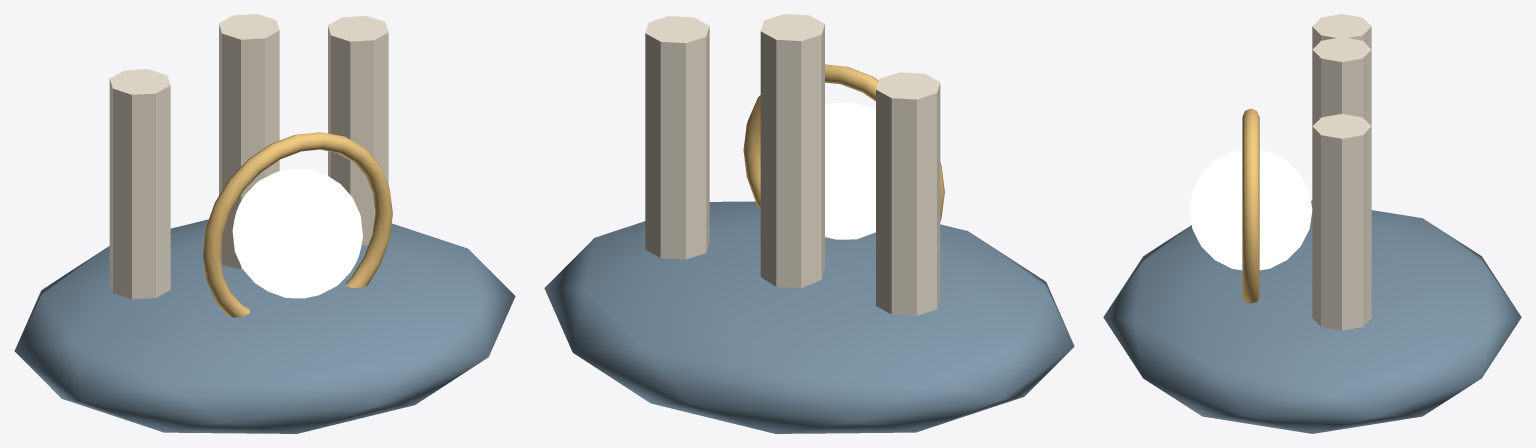
The model's file is ruin-archive.glb.
The picture shows the model from 3 angles, left to right: view 1: azimuth 30°, elevation 25°; view 2: azimuth 150°, elevation 25°; view 3: azimuth 270°, elevation 25°; orthographic projection. The views are drawn at different scales.
Visible parts, largest first — view 1: Ancient reef, Archive column, Memory pearl, Archive column.001, Archive column.002, Archive halo; view 2: Ancient reef, Archive column.001, Archive column.002, Archive column, Memory pearl, Archive halo; view 3: Ancient reef, Archive column.002, Memory pearl, Archive column.001, Archive halo, Archive column.
Boxes of the visible parts, bbox=[...] form: Ancient reef: bbox=[14, 219, 515, 433]; Archive column: bbox=[109, 69, 170, 299]; Memory pearl: bbox=[232, 168, 362, 298]; Archive column.001: bbox=[219, 14, 279, 269]; Archive column.002: bbox=[328, 16, 388, 245]; Archive halo: bbox=[202, 132, 392, 317]; Ancient reef: bbox=[544, 201, 1074, 433]; Archive column.001: bbox=[760, 14, 824, 287]; Archive column.002: bbox=[645, 16, 709, 259]; Archive column: bbox=[876, 72, 940, 315]; Memory pearl: bbox=[825, 102, 875, 239]; Archive halo: bbox=[743, 64, 944, 221]; Ancient reef: bbox=[1103, 201, 1521, 433]; Archive column.002: bbox=[1312, 114, 1371, 330]; Memory pearl: bbox=[1189, 150, 1312, 270]; Archive column.001: bbox=[1312, 37, 1371, 125]; Archive halo: bbox=[1242, 108, 1259, 303]; Archive column: bbox=[1312, 14, 1371, 49].
Size of the model in its own units: 1.9 by 1.44 by 1.7.
